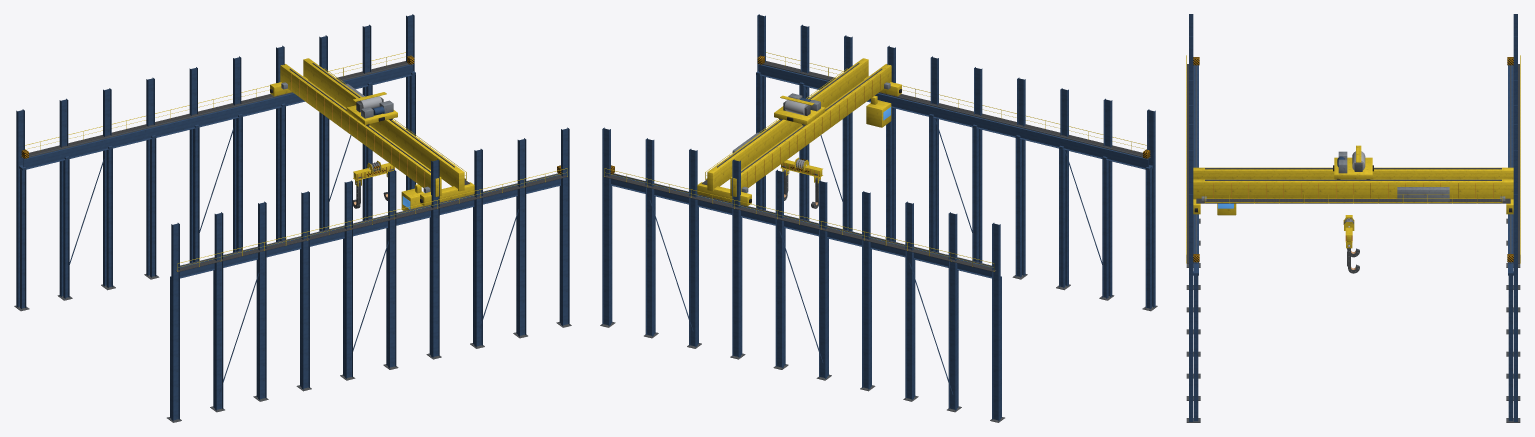
Rendered from crane.glb.
The picture shows the model from 3 angles, left to right: view 1: azimuth 30°, elevation 25°; view 2: azimuth 150°, elevation 25°; view 3: azimuth 270°, elevation 25°; orthographic projection. The views are drawn at different scales.
Visible parts, largest first — view 1: runway_geo, bridge_geo, trolley_geo; view 2: runway_geo, bridge_geo, trolley_geo, cabin_geo; view 3: bridge_geo, runway_geo, trolley_geo.
Part boxes in pixels (x1,y1,x2,y2): runway_geo: (14,14,571,422); bridge_geo: (270,58,474,206); trolley_geo: (346,92,397,125); runway_geo: (600,14,1157,422); bridge_geo: (697,58,901,206); trolley_geo: (774,93,825,125); cabin_geo: (866,96,891,127); bridge_geo: (1193,167,1513,214); runway_geo: (1186,14,1520,422); trolley_geo: (1333,145,1373,179).
Bounding box in the file's own units: 55.2 × 26.26 × 38.3.
Materials: 13 (11 with a texture image).
